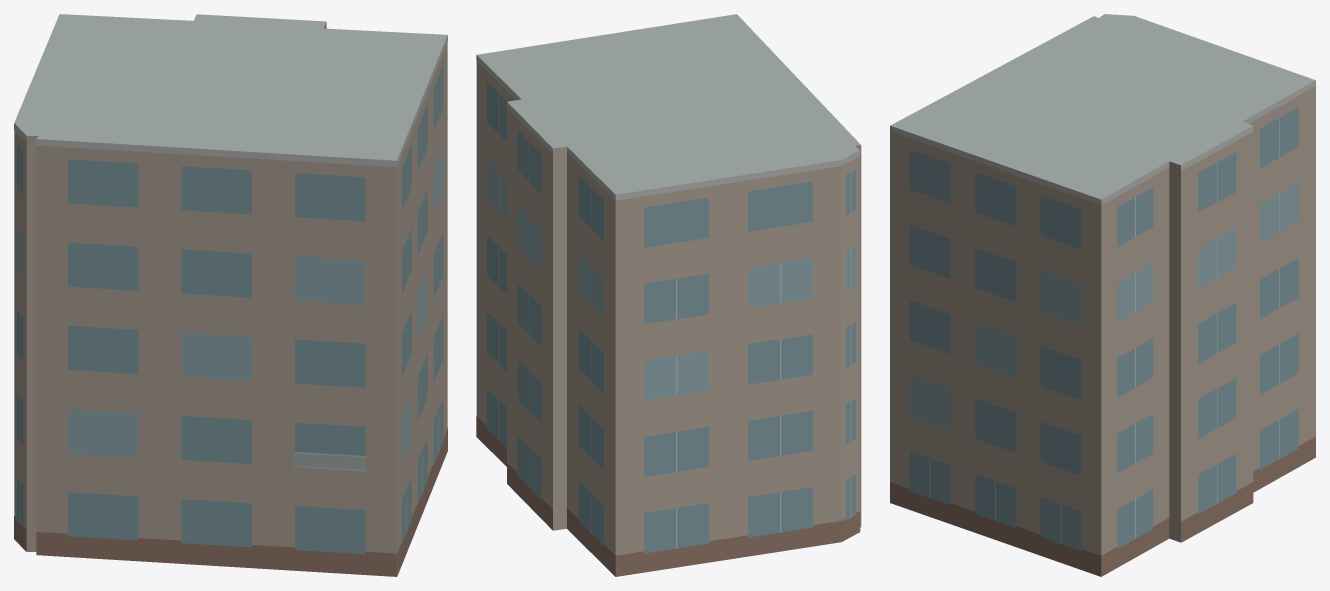
The model's file is survey-upis-32978344.glb.
3 renders of one model, left to right at view 1: azimuth 30°, elevation 25°; view 2: azimuth 150°, elevation 25°; view 3: azimuth 270°, elevation 25°, orthographic. The views are drawn at different scales.
Parts seen in each view (by area): view 1: survey-upis-32978344.tmp; view 2: survey-upis-32978344.tmp; view 3: survey-upis-32978344.tmp.
Part boxes in pixels (x1,y1,x2,y2): survey-upis-32978344.tmp: (14, 14, 447, 576); survey-upis-32978344.tmp: (476, 14, 861, 576); survey-upis-32978344.tmp: (890, 14, 1315, 576).
Bounding box in the file's own units: 16.47 × 15.6 × 15.96.
